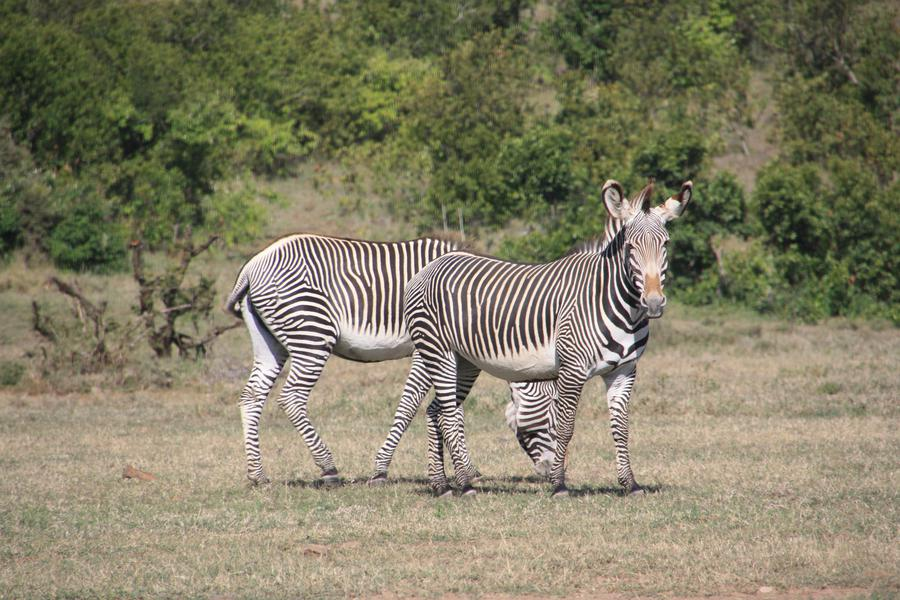zebra_grevys: (235, 243, 410, 331)
